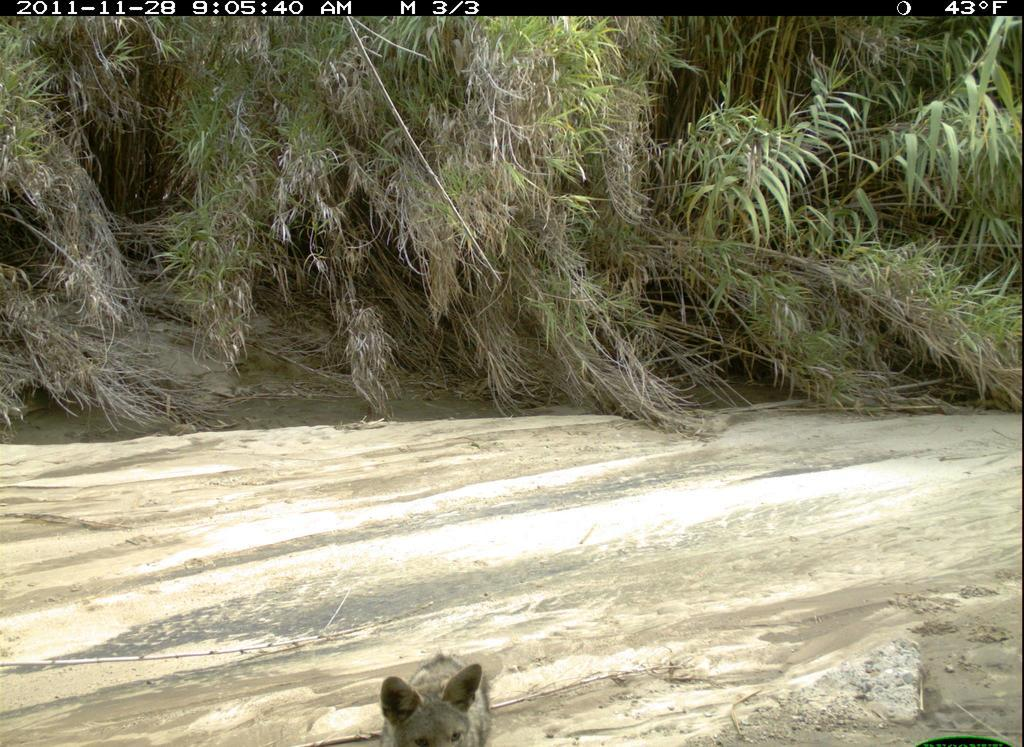coyote: (374, 652, 502, 745)
